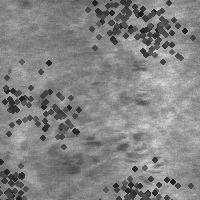rolled-in_scale: (28, 124, 166, 186), (67, 0, 173, 68), (0, 50, 62, 156), (13, 75, 93, 155), (85, 144, 191, 200), (123, 0, 191, 66), (96, 25, 149, 107), (0, 148, 43, 200)
